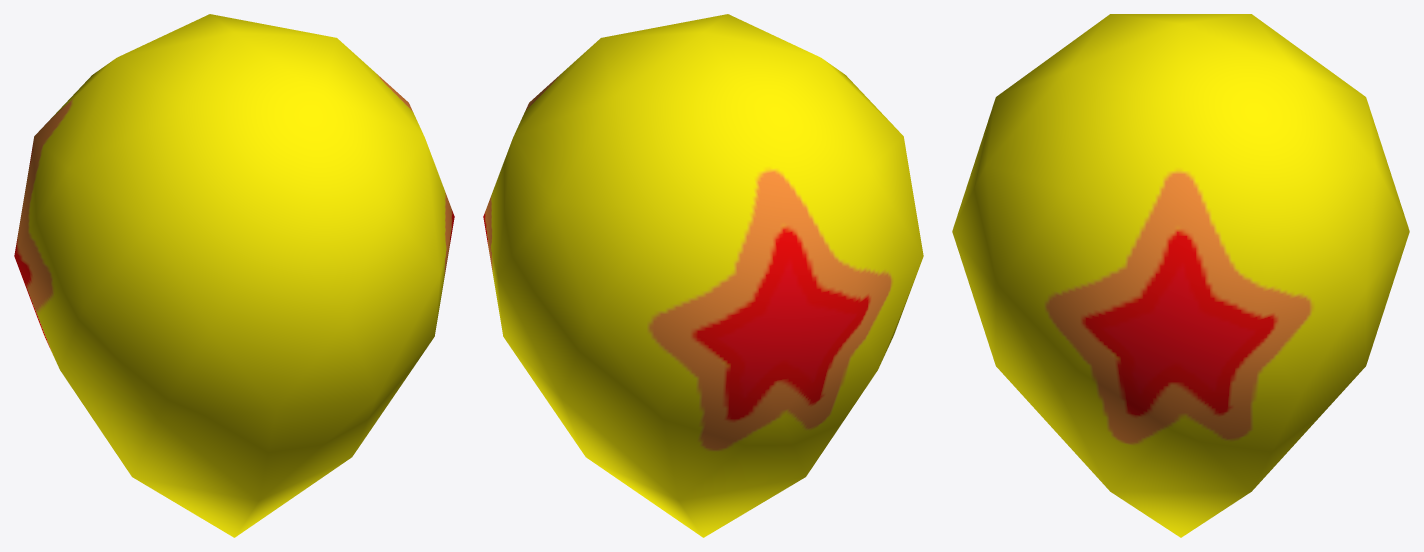
Rendered from BloonYellow.glb.
The picture shows the model from 3 angles, left to right: view 1: azimuth 30°, elevation 25°; view 2: azimuth 150°, elevation 25°; view 3: azimuth 270°, elevation 25°; orthographic projection.
Visible parts, largest first — view 1: Icosphere; view 2: Icosphere; view 3: Icosphere.
Boxes of the visible parts, left/top/right/bottom form: Icosphere: left=14, top=14, right=454, bottom=537; Icosphere: left=483, top=14, right=923, bottom=537; Icosphere: left=952, top=14, right=1409, bottom=537.
Size of the model in its own units: 0.3878 by 0.5052 by 0.4078.
1 material, 1 textured.
